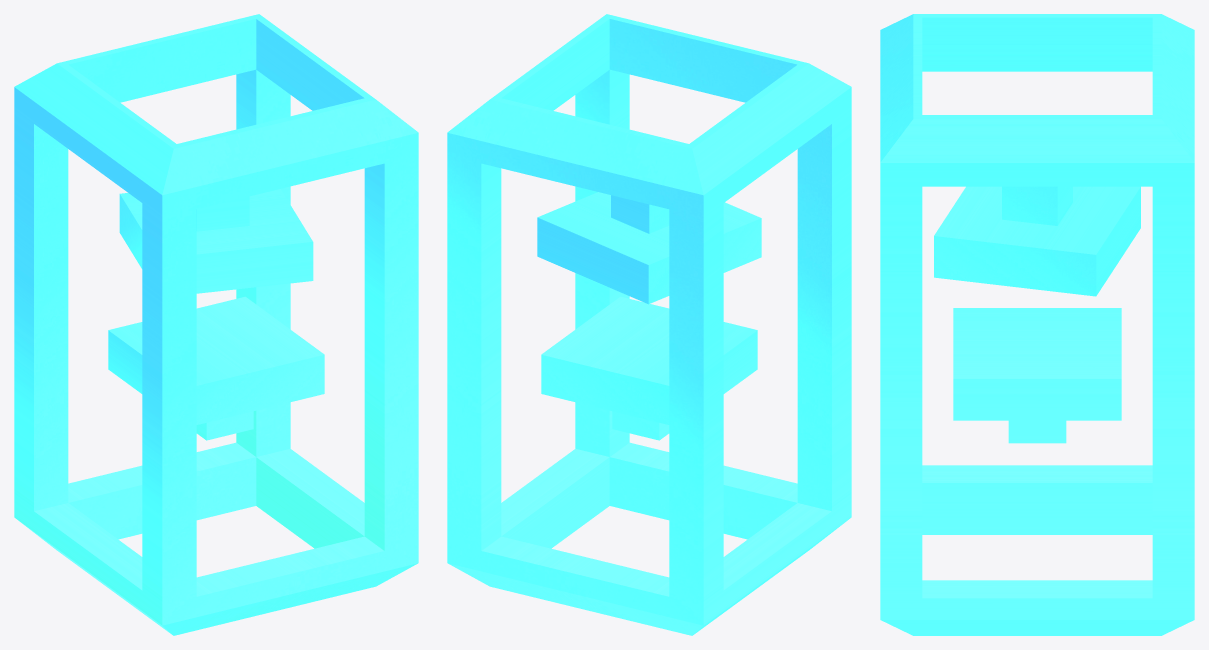
File: theta_token.glb
3 views of the same model, side by side, from view 1: azimuth 30°, elevation 25°; view 2: azimuth 150°, elevation 25°; view 3: azimuth 270°, elevation 25° (orthographic). The views are drawn at different scales.
Parts seen in each view (by area): view 1: outer_frame, Cube.002, Cube.001; view 2: outer_frame, Cube.002, Cube.001; view 3: outer_frame, Cube.002, Cube.001.
Part boxes in pixels (box(x1,y1,x2,y2)): outer_frame: box(14, 14, 418, 635); Cube.002: box(108, 296, 324, 440); Cube.001: box(119, 189, 313, 293); outer_frame: box(447, 14, 851, 635); Cube.002: box(541, 296, 757, 440); Cube.001: box(537, 192, 761, 304); outer_frame: box(880, 14, 1194, 635); Cube.002: box(953, 308, 1121, 443); Cube.001: box(934, 186, 1140, 296).
Bounding box in the file's own units: 0.5527 × 1 × 0.5527.
1 material, 1 textured.
